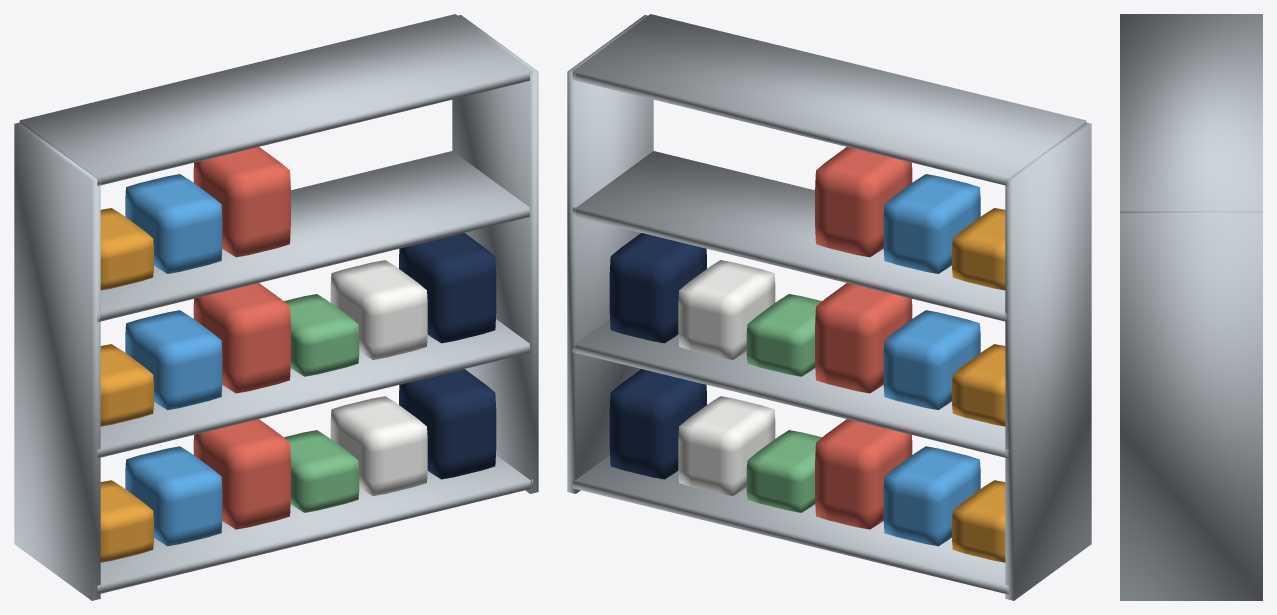
File: ph_stock.glb
The picture shows the model from 3 angles, left to right: view 1: azimuth 30°, elevation 25°; view 2: azimuth 150°, elevation 25°; view 3: azimuth 270°, elevation 25°; orthographic projection. The views are drawn at different scales.
Parts seen in each view (by area): view 1: ph_stock; view 2: ph_stock; view 3: ph_stock.
Boxes of the visible parts, bbox=[...] form: ph_stock: bbox=[14, 14, 538, 600]; ph_stock: bbox=[567, 14, 1091, 600]; ph_stock: bbox=[1120, 14, 1262, 600].
Bounding box in the file's own units: 3.26 × 2.95 × 0.9831.
